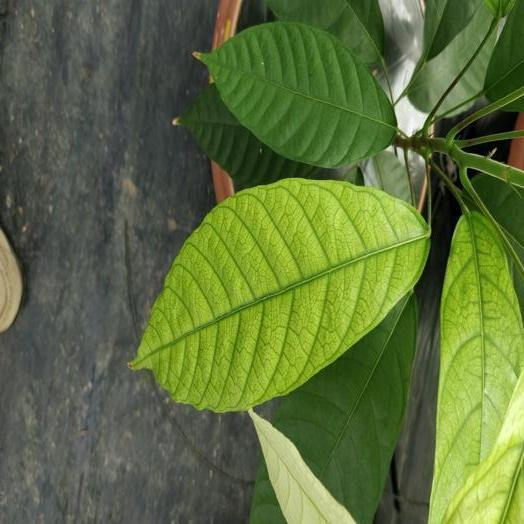Healthy Leaf: (272, 294, 420, 523), (198, 22, 395, 167), (175, 83, 315, 189), (405, 0, 503, 119), (267, 0, 385, 66), (479, 0, 523, 113)
Iron: (131, 179, 428, 411), (430, 212, 523, 523), (249, 410, 354, 523), (445, 372, 523, 523)
